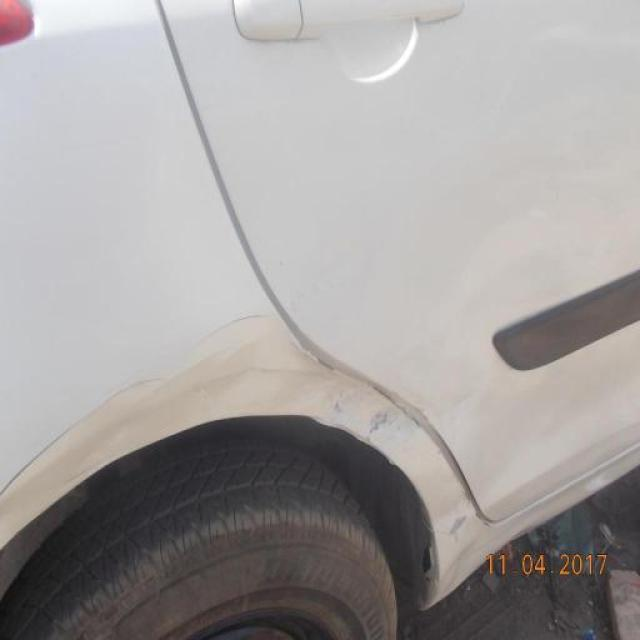dent: (1, 310, 490, 599)
